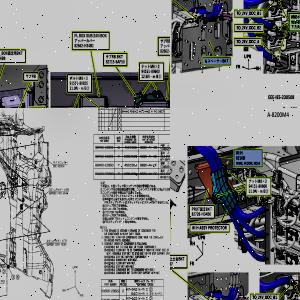PartNumber: (74, 42, 94, 49), (141, 68, 161, 74), (248, 183, 268, 189), (69, 80, 88, 86), (105, 59, 125, 64), (94, 163, 114, 168), (191, 212, 211, 216), (101, 289, 120, 293), (159, 48, 170, 53), (101, 298, 119, 300), (0, 55, 6, 60)
